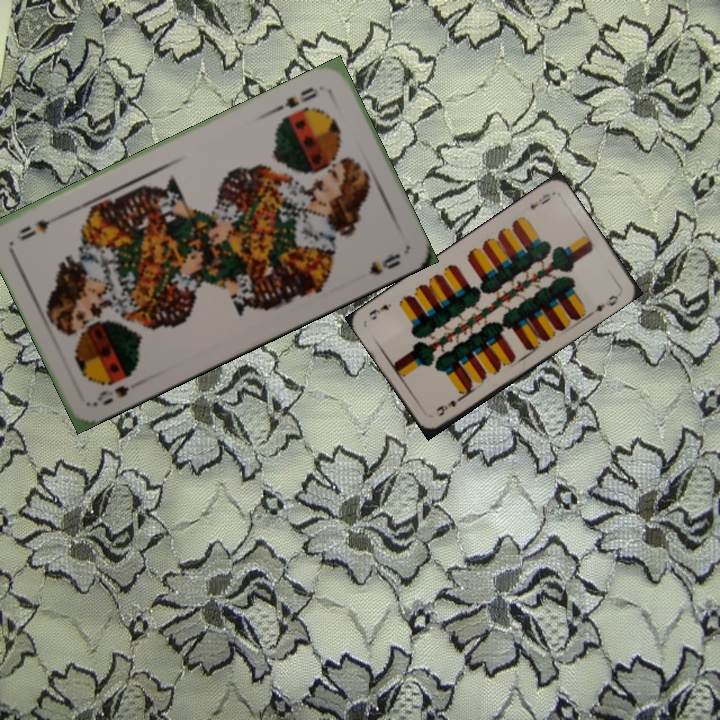E9: (526, 189, 553, 212), (433, 396, 459, 419)
SO: (271, 82, 320, 114), (90, 381, 131, 409)
